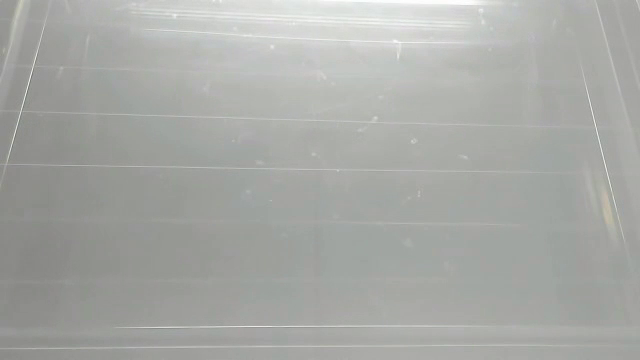alpha: (205, 1, 228, 7)
